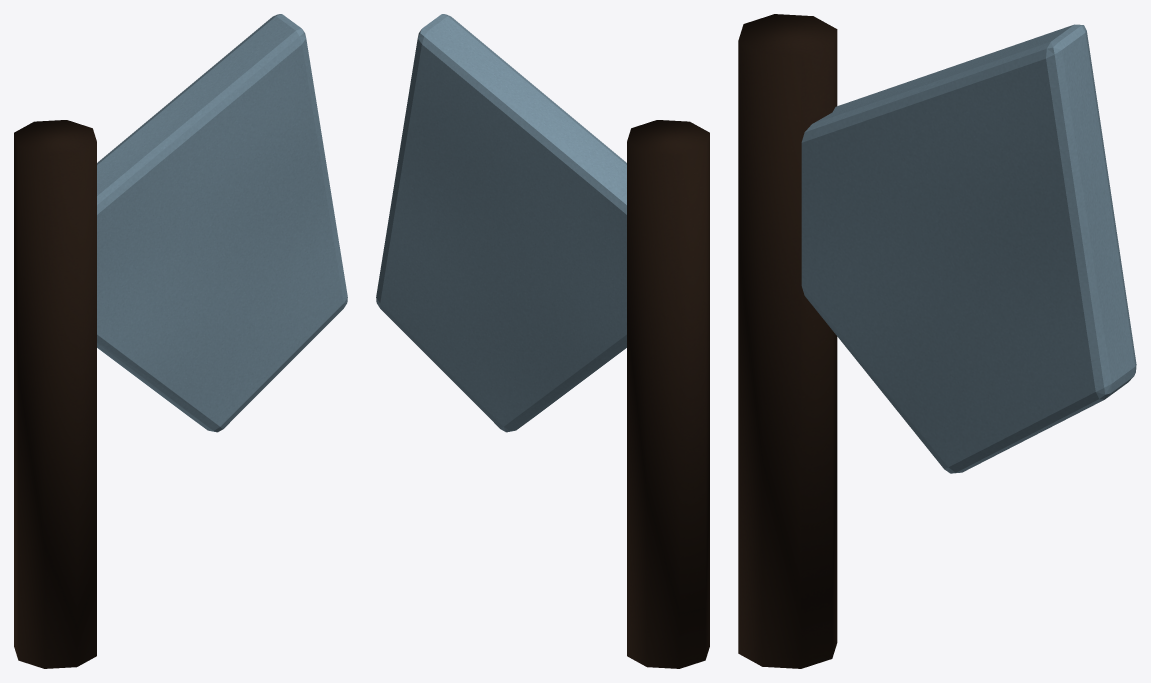
Rendered from Kit_ThrowingAxe.fbx.
The picture shows the model from 3 angles, left to right: view 1: azimuth 30°, elevation 25°; view 2: azimuth 150°, elevation 25°; view 3: azimuth 330°, elevation 25°; orthographic projection. The views are drawn at different scales.
Visible parts, largest first — view 1: Kit_ThrowingAxe_Steel, Kit_ThrowingAxe_Wood; view 2: Kit_ThrowingAxe_Steel, Kit_ThrowingAxe_Wood; view 3: Kit_ThrowingAxe_Steel, Kit_ThrowingAxe_Wood.
Part boxes in pixels (x1,y1,x2,y2): Kit_ThrowingAxe_Steel: (97,14,347,432); Kit_ThrowingAxe_Wood: (14,120,96,668); Kit_ThrowingAxe_Steel: (376,14,626,432); Kit_ThrowingAxe_Wood: (627,120,709,668); Kit_ThrowingAxe_Steel: (801,24,1136,473); Kit_ThrowingAxe_Wood: (738,14,837,668).
Bounding box in the file's own units: 0.214 × 0.3675 × 0.05.
